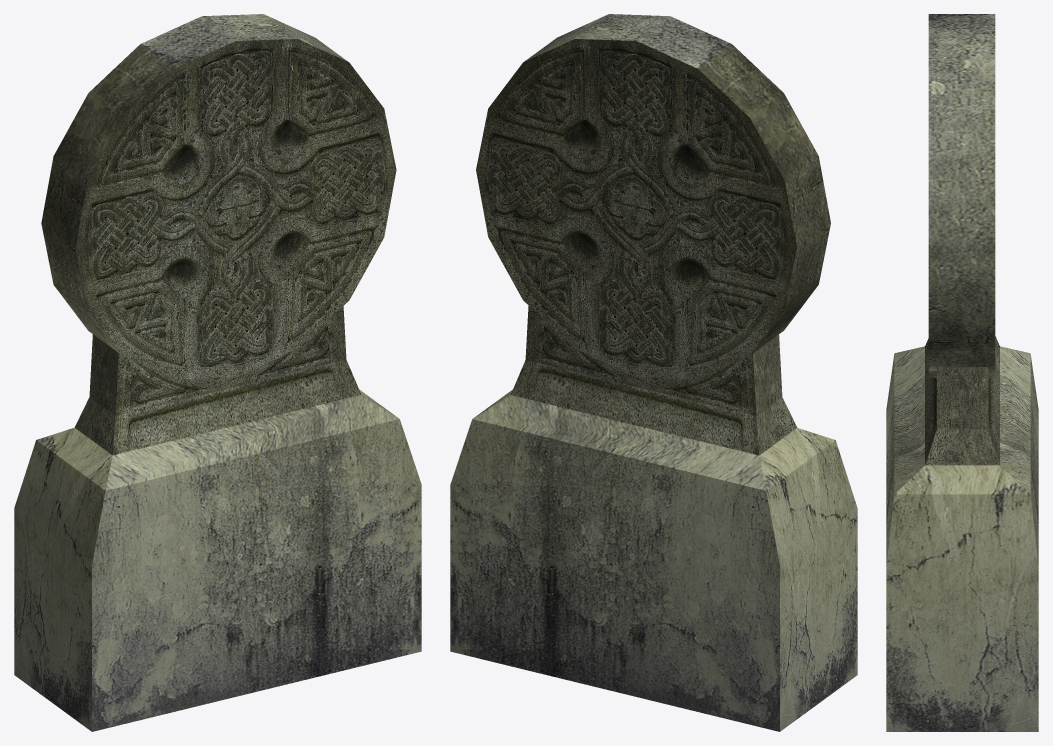
Rendered from Headstone_12.fbx.
3 renders of one model, left to right at view 1: azimuth 30°, elevation 25°; view 2: azimuth 150°, elevation 25°; view 3: azimuth 270°, elevation 25°, orthographic.
Visible parts, largest first — view 1: headstone; view 2: headstone; view 3: headstone.
Boxes of the visible parts, bbox=[...] form: headstone: bbox=[14, 14, 421, 731]; headstone: bbox=[450, 14, 857, 731]; headstone: bbox=[886, 14, 1038, 731].
Size of the model in its own units: 1.03 by 1.9 by 0.4219.
